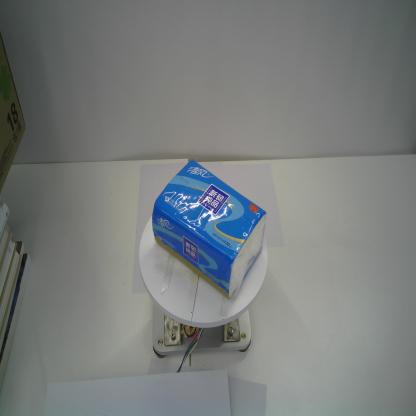Tissue: (151, 159, 267, 301)
